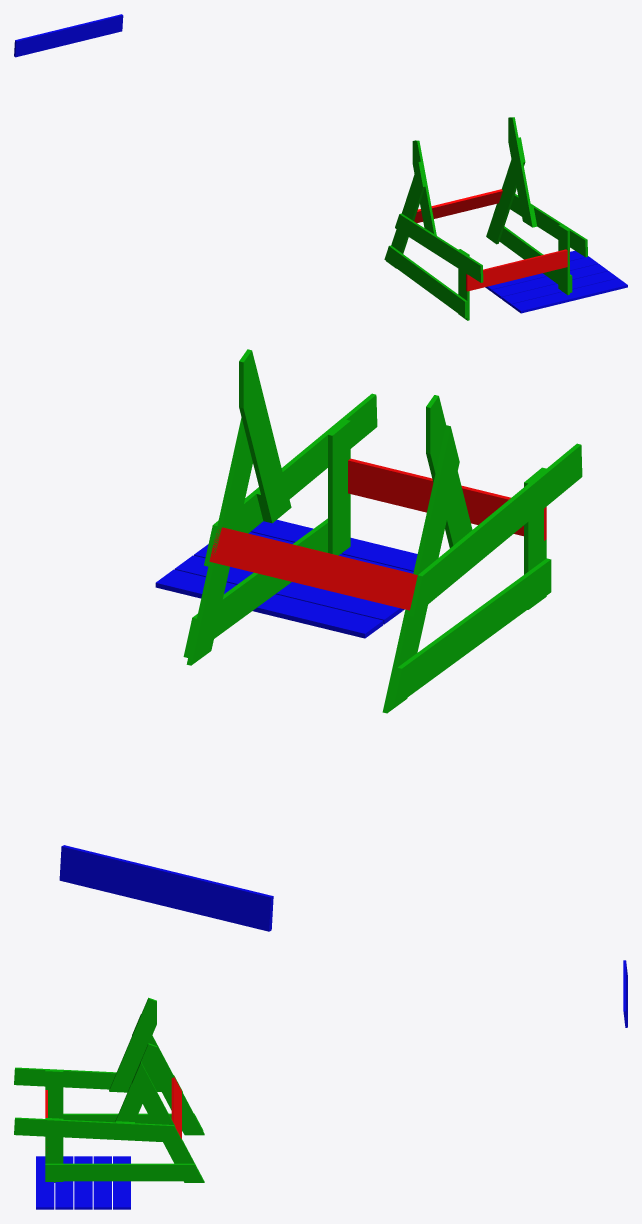
Rendered from result.glb.
3 views of the same model, one above another, from view 1: azimuth 30°, elevation 25°; view 2: azimuth 150°, elevation 25°; view 3: azimuth 270°, elevation 25° (orthographic). The views are drawn at different scales.
Parts seen in each view (by area): view 1: 5903df7b-6936-4a96-9dbb-c19cbca67e78__Box_8, f842bc10-d115-483e-9b84-144fcc480fe5__Plane_1, 2b606197-b8d9-4323-aae9-7da12aa81518__undefined, 28881b31-8e36-45eb-8cc8-ad396c821778__undefined, 932accac-9b85-4fa4-9c69-1779ddb15765__Box_5, 6b2f2bae-0631-45da-8a44-ee60a3ef36e3__undefined, c3751647-d463-4275-aa25-8a0b79741b9b__Plane_2, 03003b53-97bf-47f8-aca4-e439ed285b65__undefined, 9778d33d-e22d-4a4f-825f-2f4580448eda__Box_1, a857ac93-3225-4a95-946a-5f6a7c90e198__undefined, 8d503694-a40c-4eac-85c8-5ac2bf7ac6c9__Box_2, fefe1f59-8566-41a3-8a73-d0f975fcb7d3__undefined (+4 smaller); view 2: 5903df7b-6936-4a96-9dbb-c19cbca67e78__Box_8, c3751647-d463-4275-aa25-8a0b79741b9b__Plane_2, fefe1f59-8566-41a3-8a73-d0f975fcb7d3__undefined (×2), 2b606197-b8d9-4323-aae9-7da12aa81518__undefined, 28881b31-8e36-45eb-8cc8-ad396c821778__undefined, a857ac93-3225-4a95-946a-5f6a7c90e198__undefined, f842bc10-d115-483e-9b84-144fcc480fe5__Plane_1, 6b2f2bae-0631-45da-8a44-ee60a3ef36e3__undefined, 03003b53-97bf-47f8-aca4-e439ed285b65__undefined, a73be27a-b680-4892-99ff-c23bee920cb5__Box_4, a9400972-d9d4-40e5-9bc1-bd0d1aa8dda7__Plane, 080c4636-21a6-4250-8ca8-90b064bcc708__undefined (+4 smaller); view 3: 03003b53-97bf-47f8-aca4-e439ed285b65__undefined, a9400972-d9d4-40e5-9bc1-bd0d1aa8dda7__Plane, fefe1f59-8566-41a3-8a73-d0f975fcb7d3__undefined (×2), 6ba43b48-d718-4fdb-abaa-45d78c982510__undefined, 2b606197-b8d9-4323-aae9-7da12aa81518__undefined, a857ac93-3225-4a95-946a-5f6a7c90e198__undefined, 6b2f2bae-0631-45da-8a44-ee60a3ef36e3__undefined, 2e28416e-84bd-4b12-af39-5ea72dabe5da__undefined, 932accac-9b85-4fa4-9c69-1779ddb15765__Box_5, 8d503694-a40c-4eac-85c8-5ac2bf7ac6c9__Box_2, 6b1a75bc-f62e-4571-964f-59fd53b06b78__Box_3, a73be27a-b680-4892-99ff-c23bee920cb5__Box_4 (+4 smaller).
Boxes of the visible parts, x1,y1,x2,y2 form: 5903df7b-6936-4a96-9dbb-c19cbca67e78__Box_8: (14,14,123,57); f842bc10-d115-483e-9b84-144fcc480fe5__Plane_1: (466,249,569,291); 2b606197-b8d9-4323-aae9-7da12aa81518__undefined: (395,213,483,282); 28881b31-8e36-45eb-8cc8-ad396c821778__undefined: (384,245,467,318); 932accac-9b85-4fa4-9c69-1779ddb15765__Box_5: (511,278,627,313); 6b2f2bae-0631-45da-8a44-ee60a3ef36e3__undefined: (508,117,534,227); c3751647-d463-4275-aa25-8a0b79741b9b__Plane_2: (414,189,502,222); 03003b53-97bf-47f8-aca4-e439ed285b65__undefined: (510,193,587,257); 9778d33d-e22d-4a4f-825f-2f4580448eda__Box_1: (502,271,617,306); a857ac93-3225-4a95-946a-5f6a7c90e198__undefined: (386,161,425,268); 8d503694-a40c-4eac-85c8-5ac2bf7ac6c9__Box_2: (492,264,607,298); fefe1f59-8566-41a3-8a73-d0f975fcb7d3__undefined: (486,137,525,244); 5903df7b-6936-4a96-9dbb-c19cbca67e78__Box_8: (59,845,273,931); c3751647-d463-4275-aa25-8a0b79741b9b__Plane_2: (209,527,417,610); fefe1f59-8566-41a3-8a73-d0f975fcb7d3__undefined (×2): (186,418,252,665); 2b606197-b8d9-4323-aae9-7da12aa81518__undefined: (409,443,582,616); 28881b31-8e36-45eb-8cc8-ad396c821778__undefined: (388,558,551,707); a857ac93-3225-4a95-946a-5f6a7c90e198__undefined: (382,425,459,713); f842bc10-d115-483e-9b84-144fcc480fe5__Plane_1: (348,458,546,540); 6b2f2bae-0631-45da-8a44-ee60a3ef36e3__undefined: (239,349,291,523); 03003b53-97bf-47f8-aca4-e439ed285b65__undefined: (204,393,377,566); a73be27a-b680-4892-99ff-c23bee920cb5__Box_4: (155,569,383,638); a9400972-d9d4-40e5-9bc1-bd0d1aa8dda7__Plane: (183,518,327,657); 080c4636-21a6-4250-8ca8-90b064bcc708__undefined: (328,419,350,555); 03003b53-97bf-47f8-aca4-e439ed285b65__undefined: (14,1117,182,1142); a9400972-d9d4-40e5-9bc1-bd0d1aa8dda7__Plane: (45,1163,203,1181); fefe1f59-8566-41a3-8a73-d0f975fcb7d3__undefined (×2): (132,1062,204,1182); 6ba43b48-d718-4fdb-abaa-45d78c982510__undefined: (109,997,156,1092); 2b606197-b8d9-4323-aae9-7da12aa81518__undefined: (14,1067,182,1092); a857ac93-3225-4a95-946a-5f6a7c90e198__undefined: (132,1014,204,1135); 6b2f2bae-0631-45da-8a44-ee60a3ef36e3__undefined: (115,1043,156,1121); 2e28416e-84bd-4b12-af39-5ea72dabe5da__undefined: (45,1070,63,1118); 932accac-9b85-4fa4-9c69-1779ddb15765__Box_5: (36,1156,54,1209); 8d503694-a40c-4eac-85c8-5ac2bf7ac6c9__Box_2: (74,1156,92,1209); 6b1a75bc-f62e-4571-964f-59fd53b06b78__Box_3: (93,1156,111,1209); a73be27a-b680-4892-99ff-c23bee920cb5__Box_4: (113,1156,130,1209).
Size of the model in its own units: 1745 by 758 by 3040.
